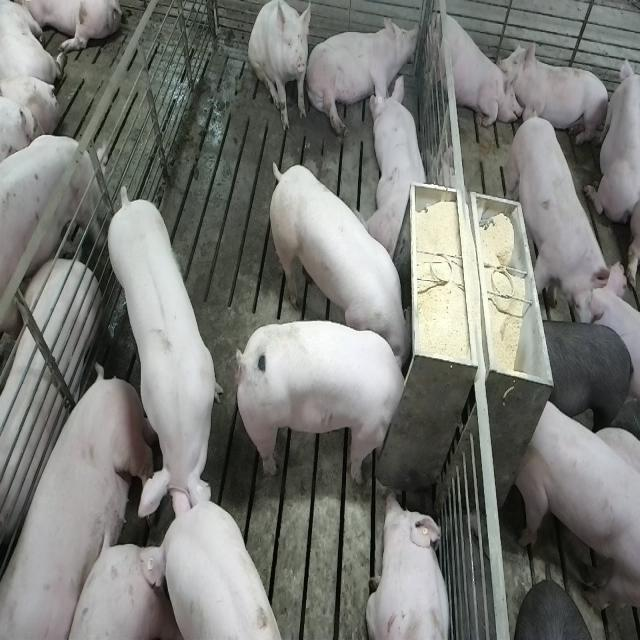Feeding: (263, 160, 412, 368), (232, 318, 408, 484)
Lateral_lying: (4, 366, 158, 640), (304, 12, 420, 136)
Sitting: (425, 4, 514, 135), (248, 2, 311, 134)
Standing: (104, 188, 220, 534), (514, 394, 638, 618), (0, 128, 106, 352), (510, 105, 611, 322), (149, 486, 285, 640), (541, 317, 637, 434)
Sternal_lying: (366, 490, 453, 640), (505, 38, 612, 151), (367, 72, 431, 258), (585, 49, 637, 228)
